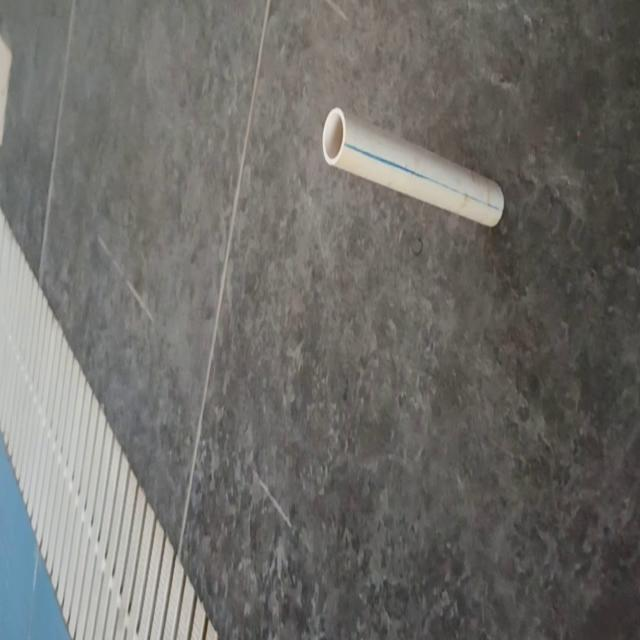Cube: (321, 104, 505, 228)
